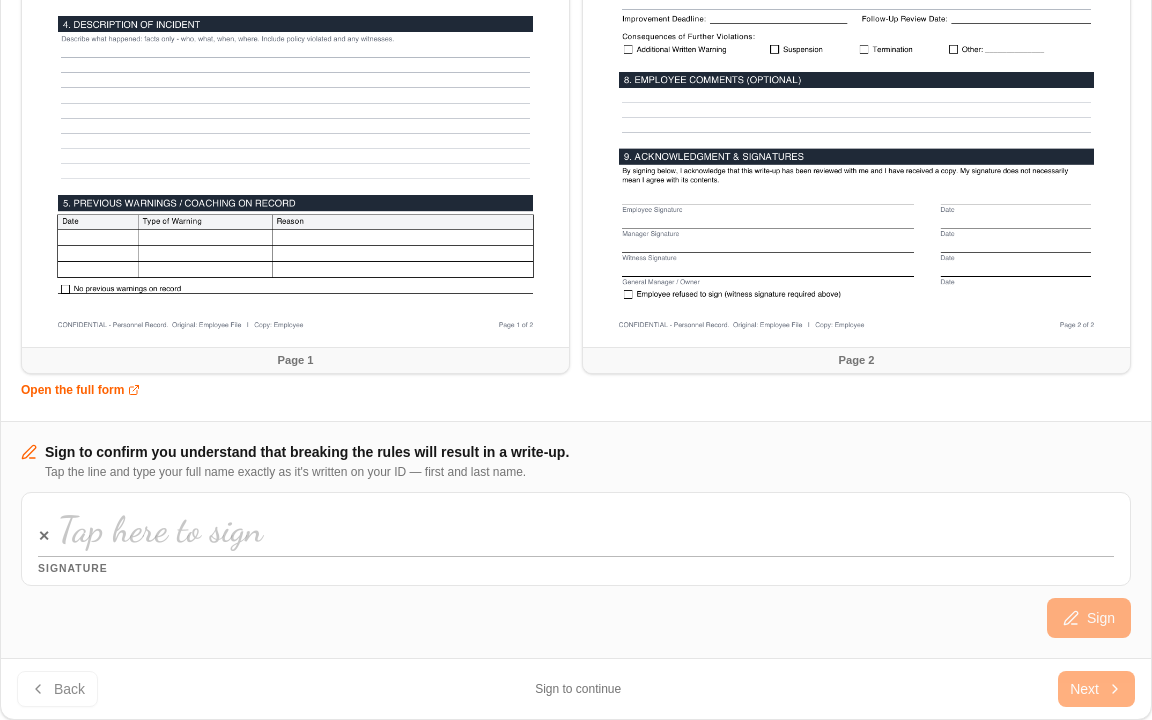
Test: RulesSlideshow › signs a page with the full name, then lets them move on
(page scrolled)
Type "Noah Williams" into the field named "Your signature" at (586, 530), box [58, 507, 1114, 552]
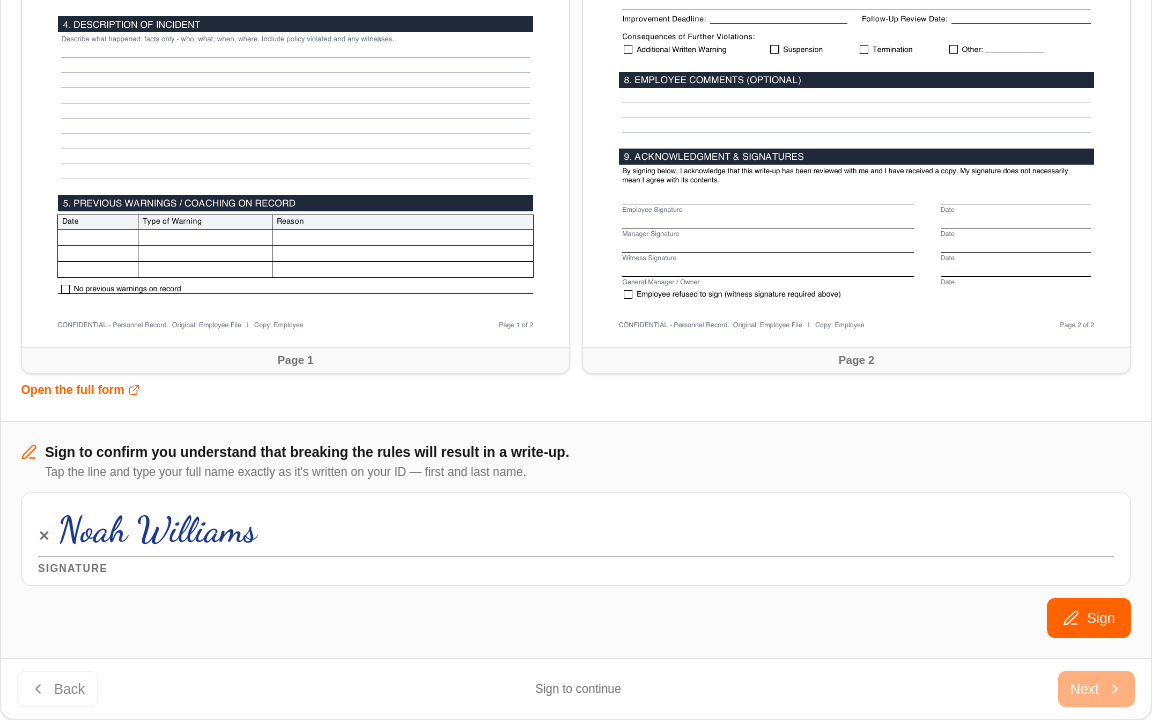
Click the button "Sign" at (1089, 618), box [1047, 598, 1131, 638]
(page scrolled)
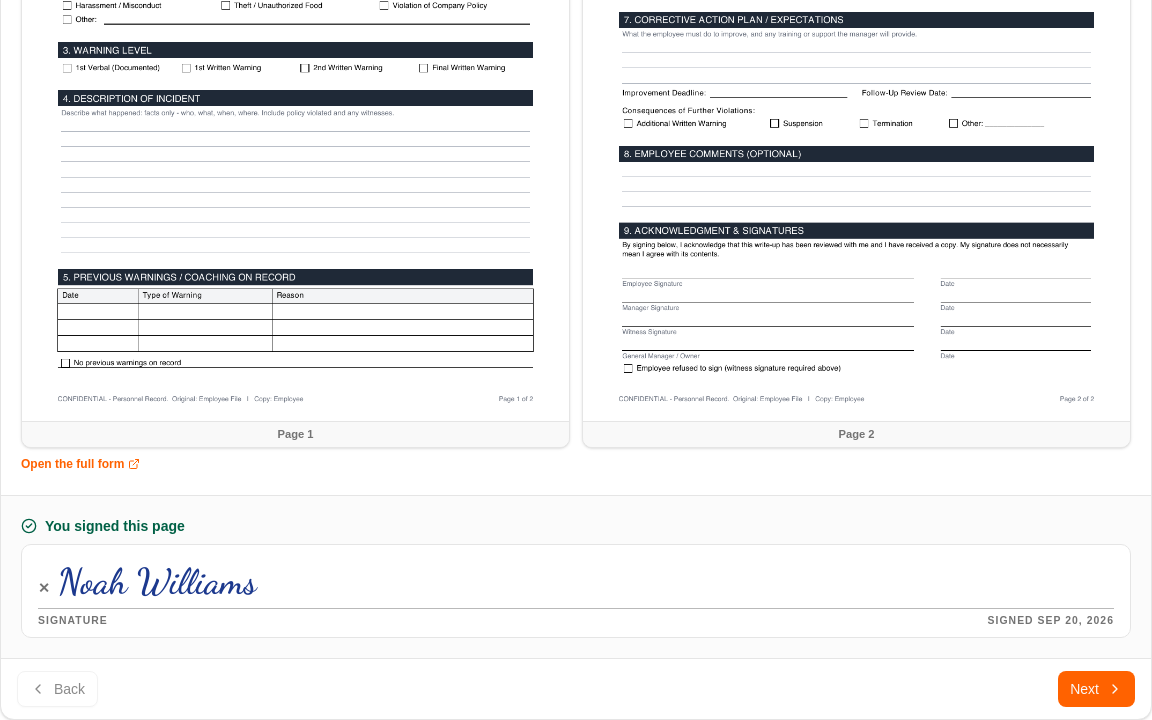
Check: the text "You signed this page" is shown, box [21, 518, 185, 534]
Check: the button "Next" is enabled
Click the button "Next" at (1097, 689), box [1058, 671, 1135, 707]
(page scrolled)
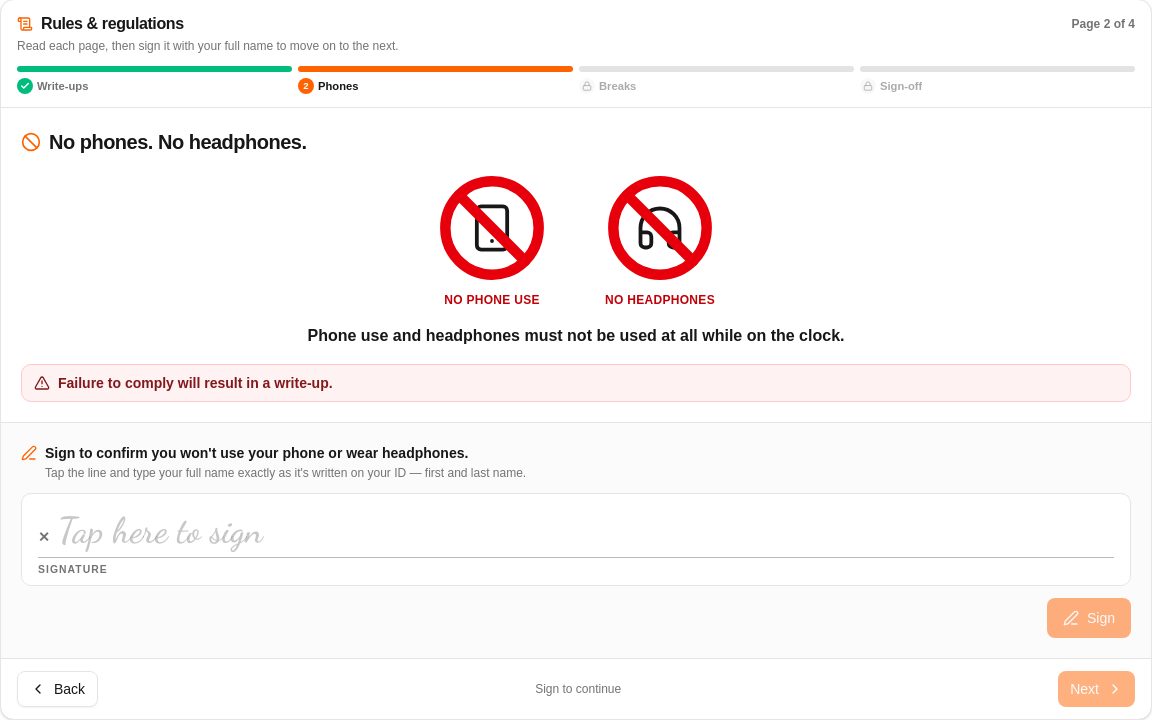
Check: the field named "Your signature" is empty, box [58, 508, 1114, 553]
Check: the button "Next" is disabled, box [1058, 671, 1135, 707]
